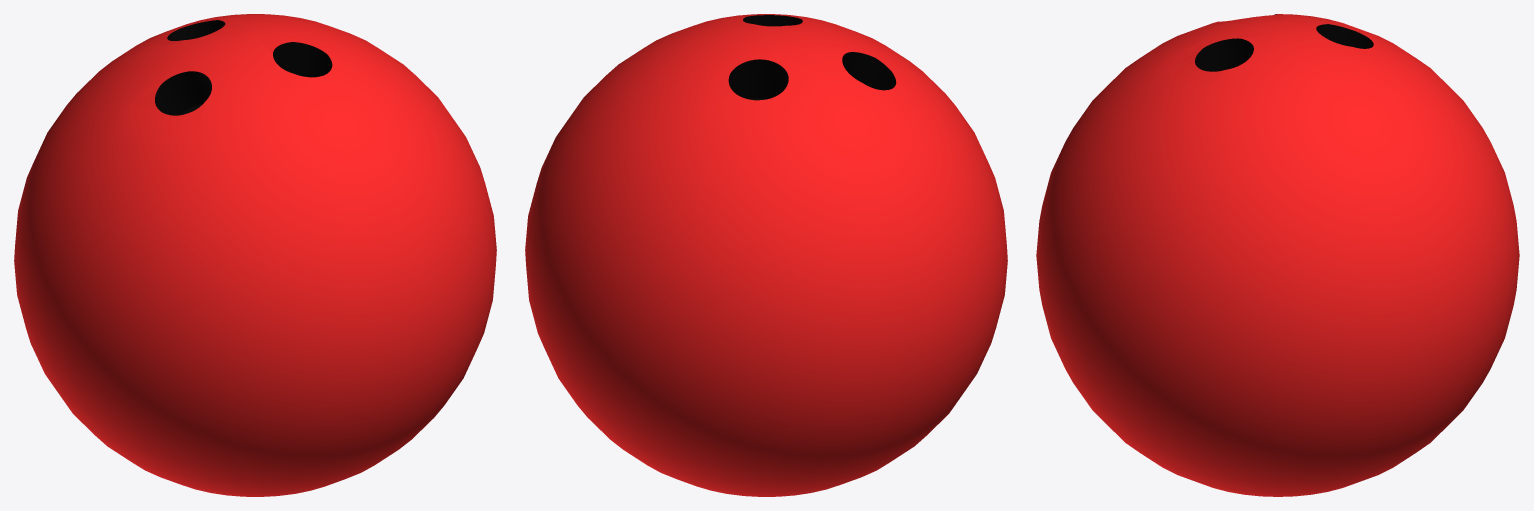
Rendered from Ball.fbx.
3 renders of one model, left to right at view 1: azimuth 30°, elevation 25°; view 2: azimuth 150°, elevation 25°; view 3: azimuth 270°, elevation 25°, orthographic.
Visible parts, largest first — view 1: Sphere, Cylinder; view 2: Sphere, Cylinder; view 3: Sphere, Cylinder.
Part boxes in pixels (x1,y1,x2,y2): Sphere: [14, 14, 496, 496]; Cylinder: [155, 20, 332, 115]; Sphere: [525, 14, 1007, 496]; Cylinder: [728, 15, 896, 100]; Sphere: [1036, 14, 1519, 496]; Cylinder: [1195, 14, 1373, 71].
Bounding box in the file's own units: 200 × 200 × 200.
